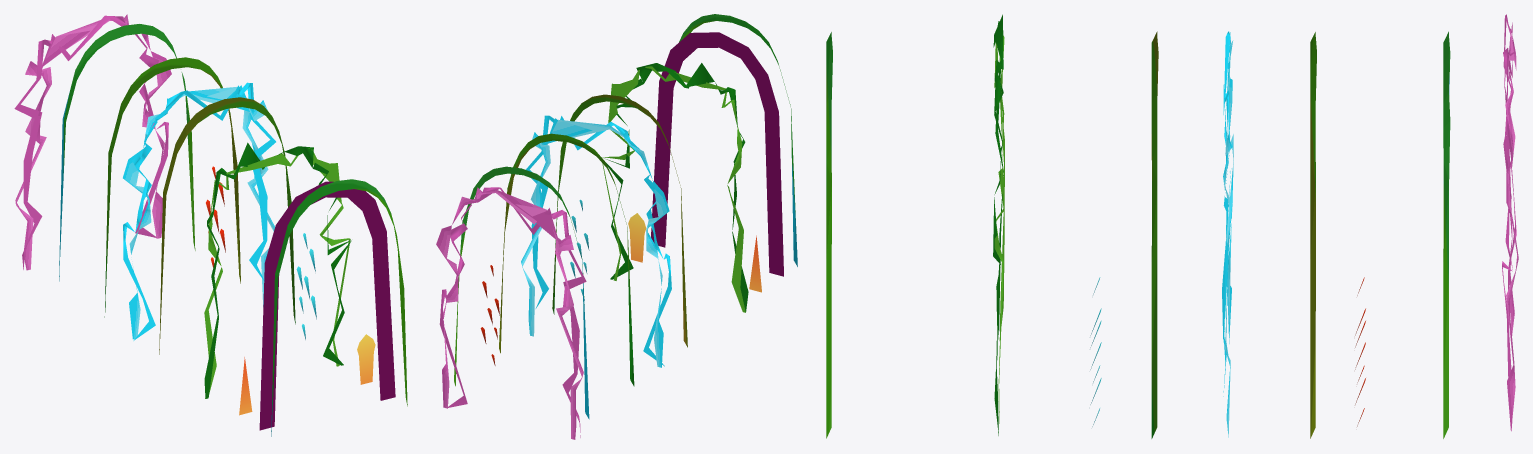
File: tunel-001.gltf
3 renders of one model, left to right at view 1: azimuth 30°, elevation 25°; view 2: azimuth 150°, elevation 25°; view 3: azimuth 270°, elevation 25°, orthographic. The views are drawn at different scales.
Visible parts, largest first — view 1: Tunel-Electrico-f.001; view 2: Tunel-Electrico-f.001; view 3: Tunel-Electrico-f.001.
Part boxes in pixels (x1,y1,x2,y2): Tunel-Electrico-f.001: (14, 14, 407, 436); Tunel-Electrico-f.001: (436, 14, 797, 439); Tunel-Electrico-f.001: (826, 14, 1518, 438).
Bounding box in the file's own units: 3.5 × 4.96 × 8.74.
1 material, 1 textured.
